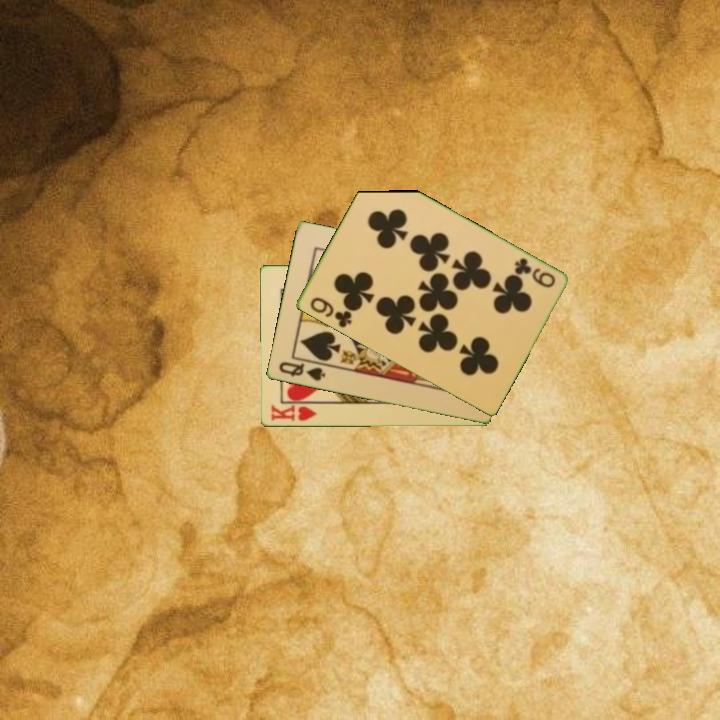9c: (306, 294, 354, 331), (510, 254, 558, 291)
Kh: (267, 400, 322, 424)
Qs: (275, 358, 328, 384)
